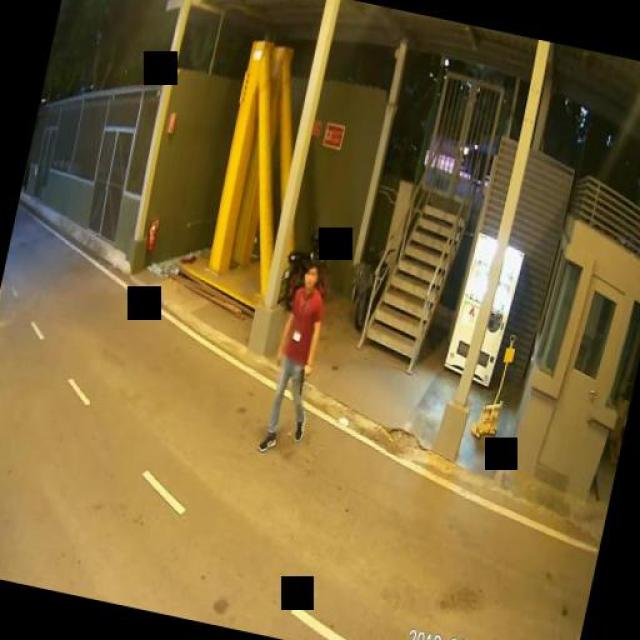gun: (290, 358, 315, 398)
